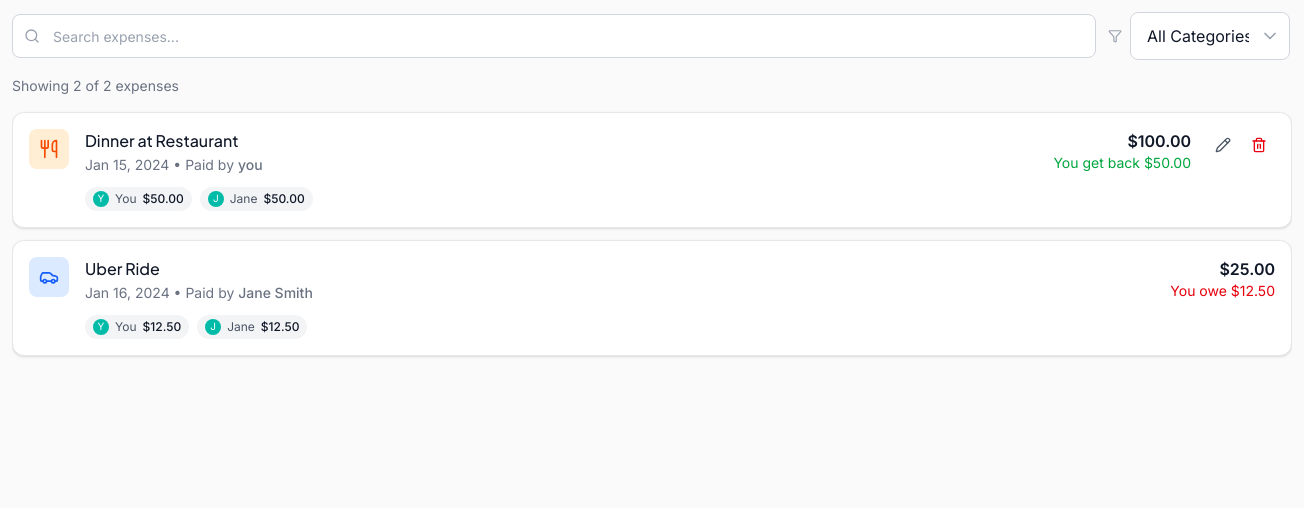
it: ExpensesList › opens edit form when edit button clicked
The image size is (1304, 508).
Click the button titled "Edit expense": (1223, 145) top-left (1207, 129), bottom-right (1239, 161)
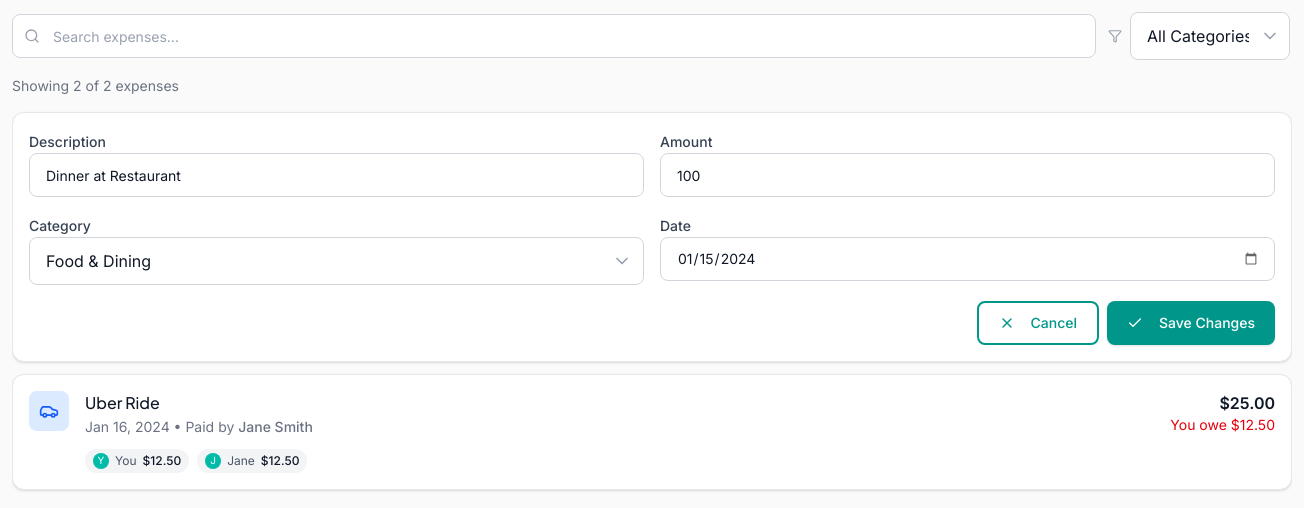
Result: the field showing "Dinner at Restaurant" is shown at top-left (29, 153), bottom-right (644, 197)
Result: the number field showing "100" is shown at top-left (660, 153), bottom-right (1275, 197)
Result: the button "Save Changes" is shown at top-left (1107, 301), bottom-right (1275, 345)
